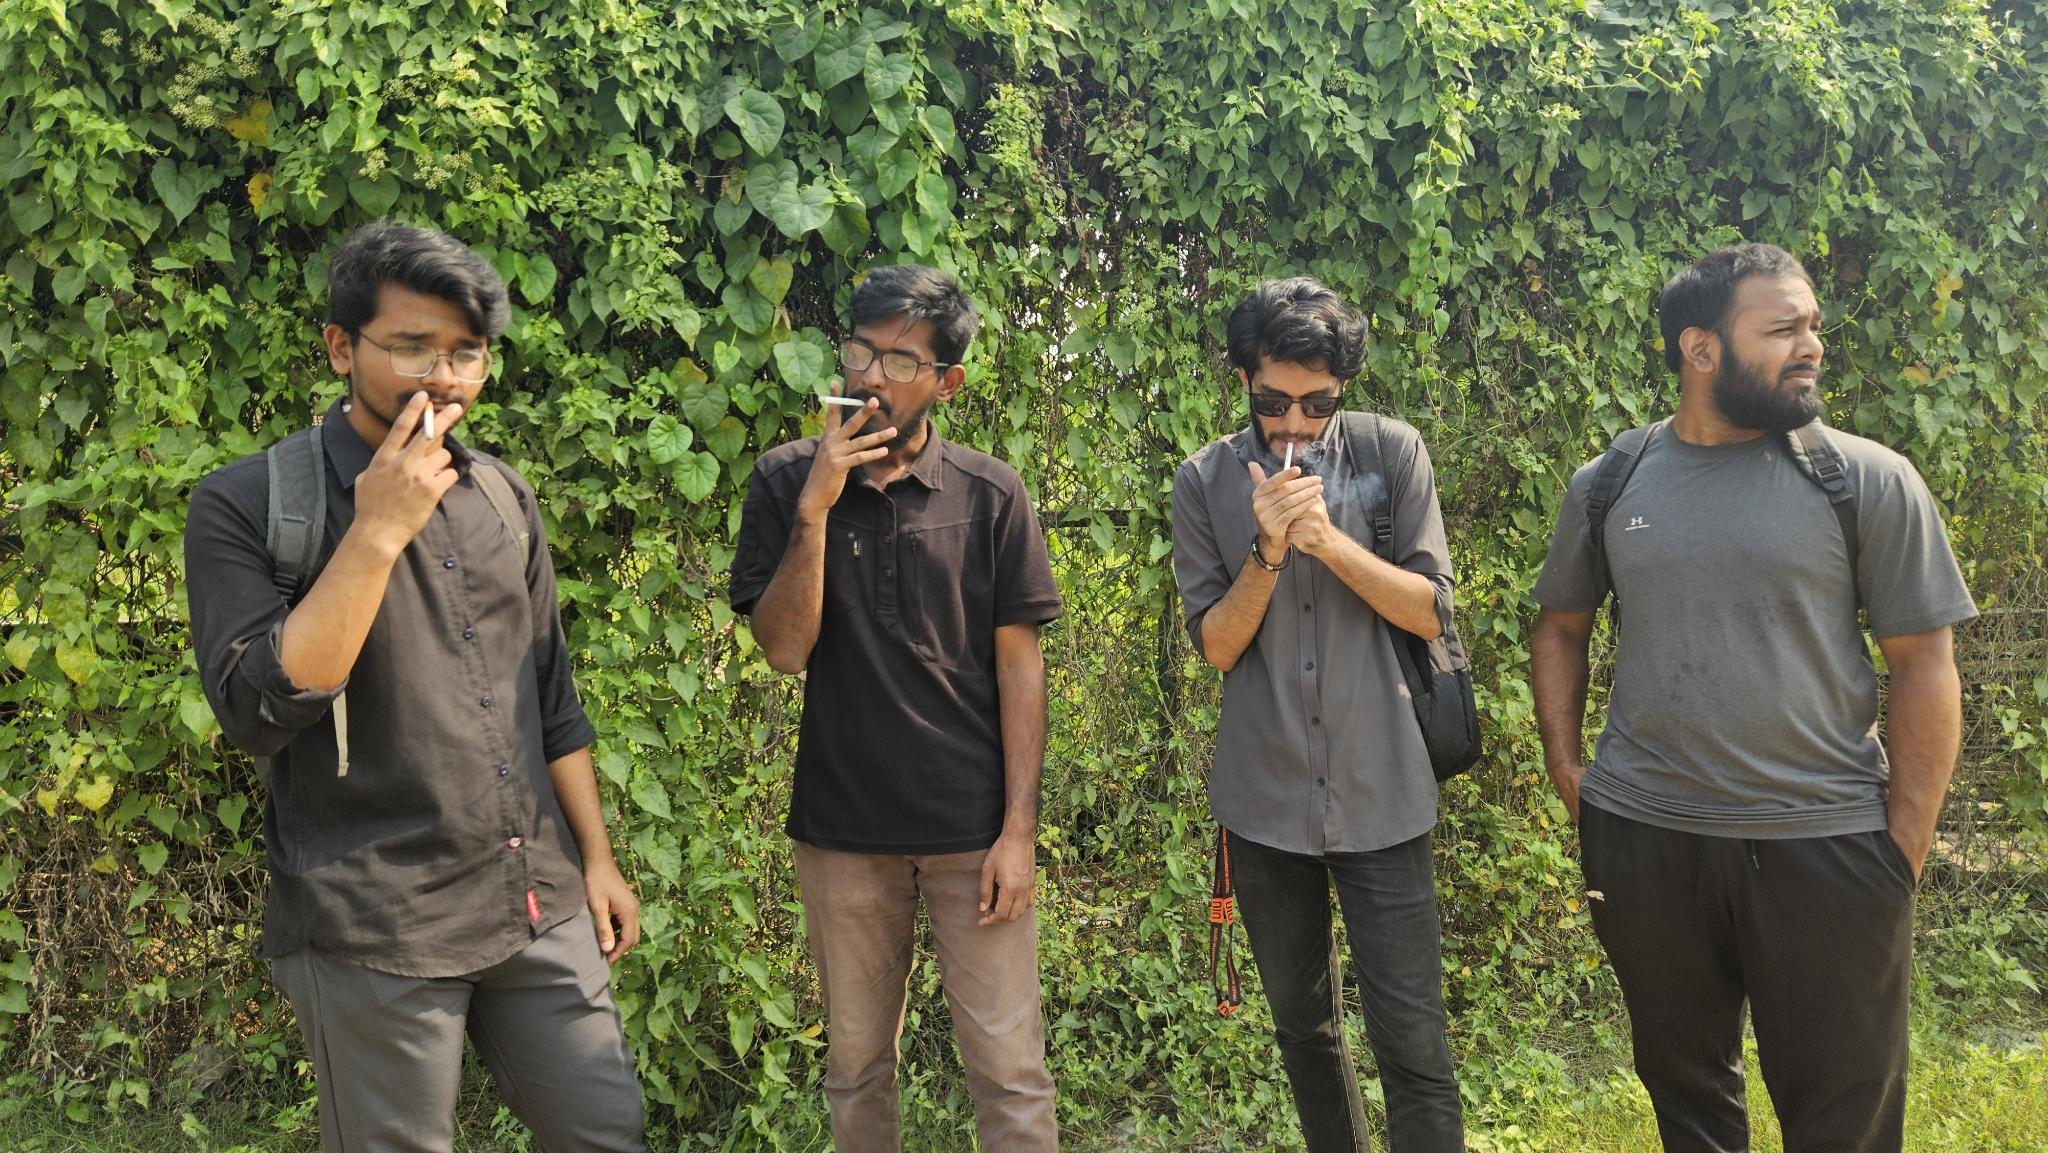cigarette: (422, 399, 436, 444), (817, 395, 866, 408), (1283, 440, 1295, 471)
nonSmoker: (1530, 242, 1980, 1153)
smoker: (184, 226, 647, 1153), (729, 264, 1063, 1153), (1173, 277, 1484, 1153)
